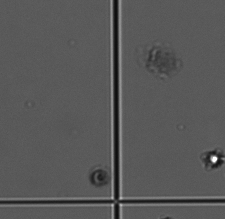Dead Cell: (89, 167, 112, 189)
Living Cell: (203, 148, 222, 167)
